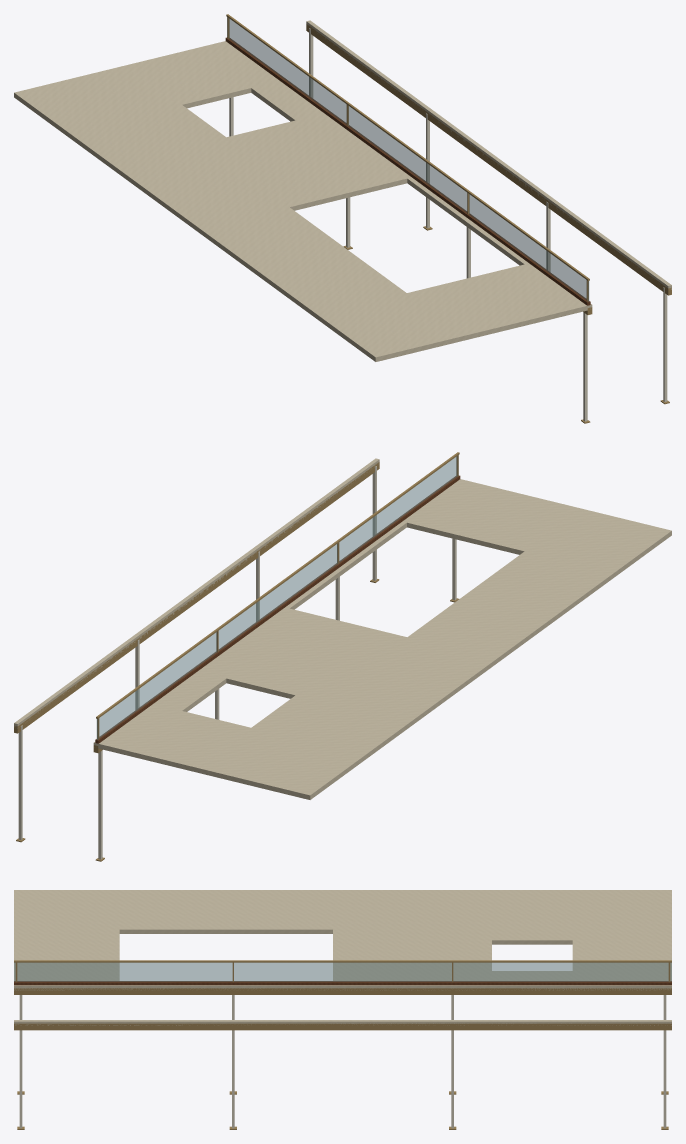
File: ForeMidCoreReceiving.glb
The picture shows the model from 3 angles, top to bottom: view 1: azimuth 30°, elevation 25°; view 2: azimuth 150°, elevation 25°; view 3: azimuth 270°, elevation 25°; orthographic projection. The views are drawn at different scales.
Parts seen in each view (by area): view 1: D03_ForeMid_ExactRetainedFloorReplacement, ForeMidD03_WestGlassGuard, ForeMidD03_ReceivingEastLedger, ForeMidD03_WestGuardPlinth, ForeMidD03_WestGuardCap; view 2: D03_ForeMid_ExactRetainedFloorReplacement, ForeMidD03_WestGlassGuard, ForeMidD03_ReceivingEastLedger, ForeMidD03_WestGuardPlinth, ForeMidD03_WestGuardCap; view 3: D03_ForeMid_ExactRetainedFloorReplacement, ForeMidD03_WestGlassGuard, ForeMidD03_ReceivingEastLedger, ForeMidD03_ReceivingWestLedger, ForeMidD03_WestGuardPlinth, ForeMidD03_WestGuardCap, ForeMidD03_EastReceiverPost_0, ForeMidD03_EastReceiverPost_3.
Part boxes in pixels (bbox=[...]): D03_ForeMid_ExactRetainedFloorReplacement: bbox=[14, 20, 671, 361]; ForeMidD03_WestGlassGuard: bbox=[227, 17, 589, 301]; ForeMidD03_ReceivingEastLedger: bbox=[306, 24, 671, 295]; ForeMidD03_WestGuardPlinth: bbox=[225, 37, 590, 305]; ForeMidD03_WestGuardCap: bbox=[226, 14, 589, 280]; D03_ForeMid_ExactRetainedFloorReplacement: bbox=[14, 458, 671, 799]; ForeMidD03_WestGlassGuard: bbox=[96, 455, 458, 739]; ForeMidD03_ReceivingEastLedger: bbox=[14, 462, 379, 733]; ForeMidD03_WestGuardPlinth: bbox=[95, 475, 460, 743]; ForeMidD03_WestGuardCap: bbox=[96, 452, 459, 718]; D03_ForeMid_ExactRetainedFloorReplacement: bbox=[14, 890, 671, 1025]; ForeMidD03_WestGlassGuard: bbox=[14, 962, 671, 981]; ForeMidD03_ReceivingEastLedger: bbox=[14, 1023, 671, 1030]; ForeMidD03_ReceivingWestLedger: bbox=[14, 988, 671, 994]; ForeMidD03_WestGuardPlinth: bbox=[14, 981, 671, 985]; ForeMidD03_WestGuardCap: bbox=[14, 960, 671, 962]; ForeMidD03_EastReceiverPost_0: bbox=[663, 1030, 666, 1128]; ForeMidD03_EastReceiverPost_3: bbox=[19, 1030, 22, 1128].
Bounding box in the file's own units: 15.6 × 7.32 × 33.
5 materials, 4 textured.
